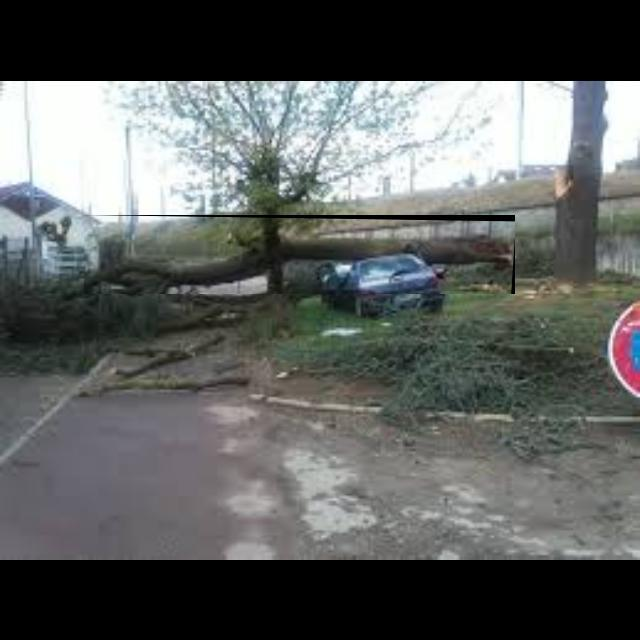fallen_tree: (84, 215, 516, 295)
